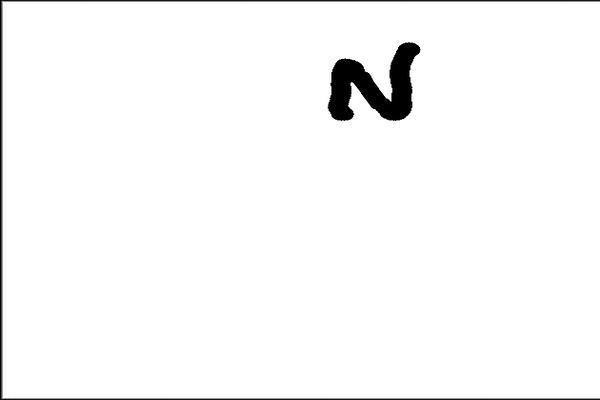N: (323, 35, 425, 125)
